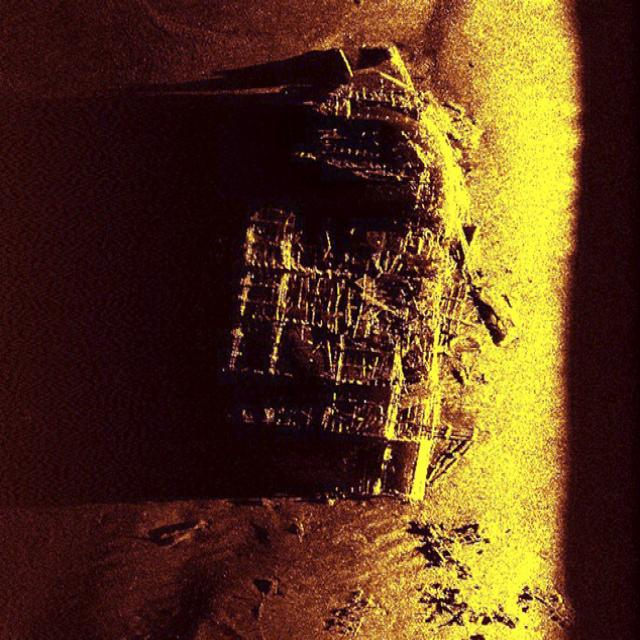ship: (234, 52, 466, 497)
